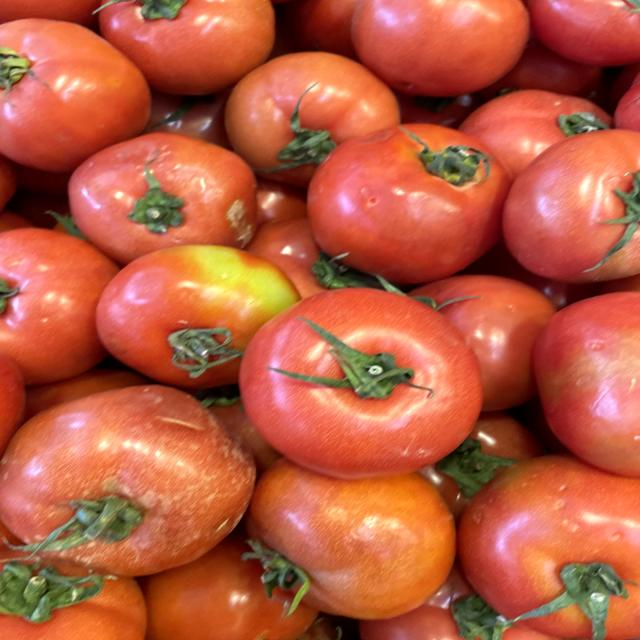tomato: (213, 283, 504, 482), (0, 376, 269, 570), (290, 102, 526, 284), (55, 117, 265, 272), (82, 239, 298, 384)
